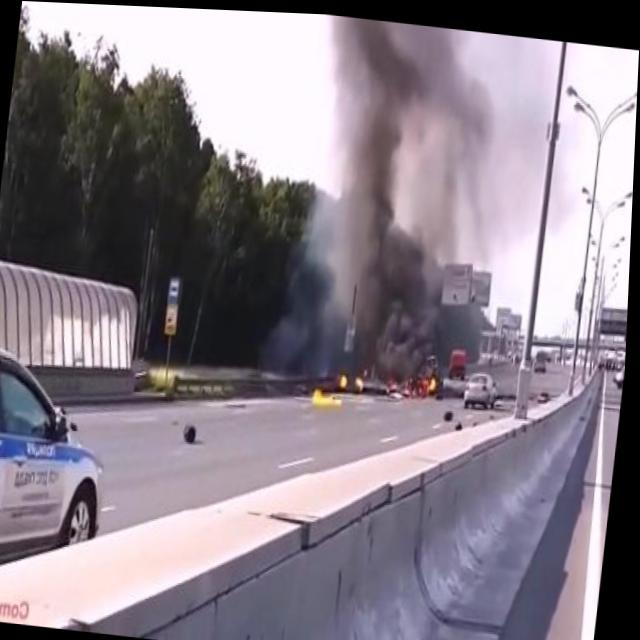fire: (407, 363, 444, 393), (311, 381, 347, 406), (339, 364, 368, 393)
